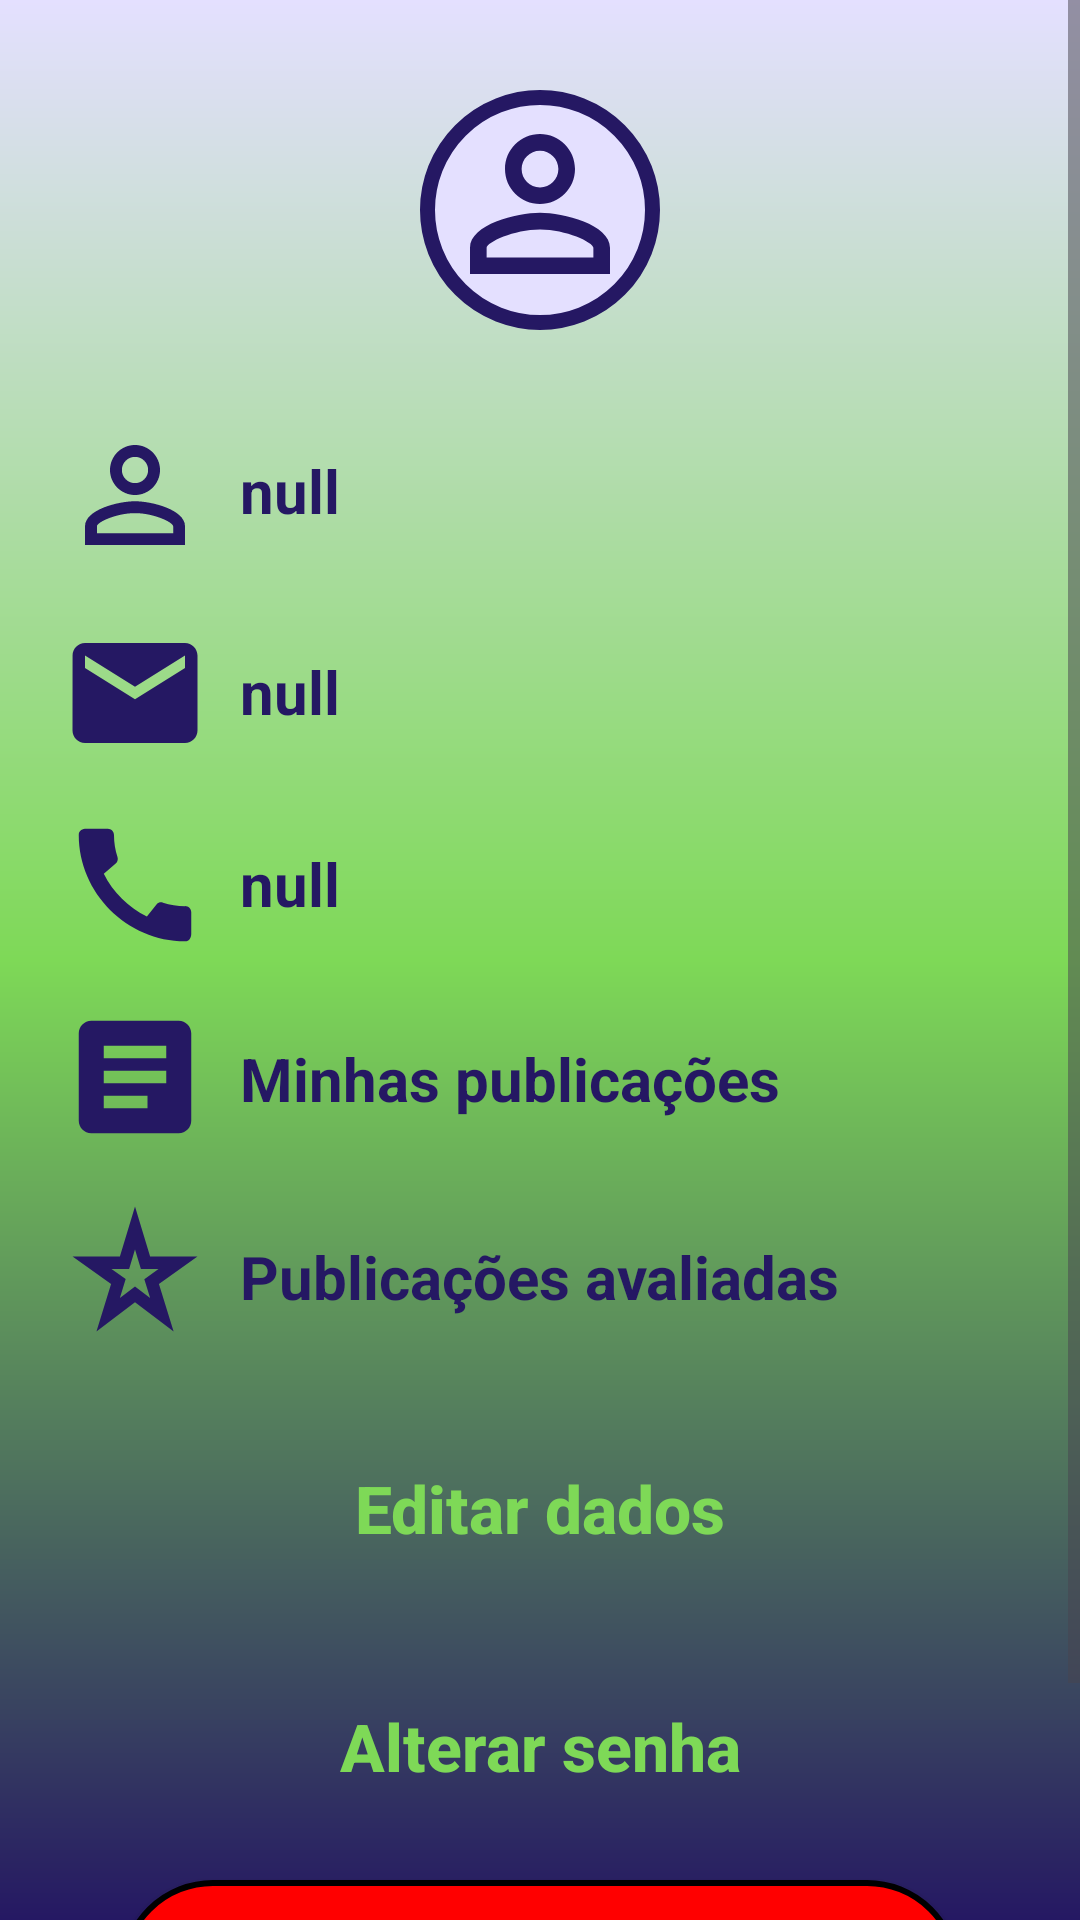

Icon bounding boxes for this 1080px×1920px phone screenshot, format (x1, y1, x2, y2):
article: (60, 1002, 210, 1134)
call: (60, 828, 210, 960)
email: (72, 643, 198, 743)
star: (60, 1194, 210, 1332)
